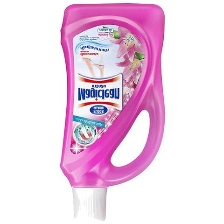cleaning_solution: (58, 1, 167, 222)
